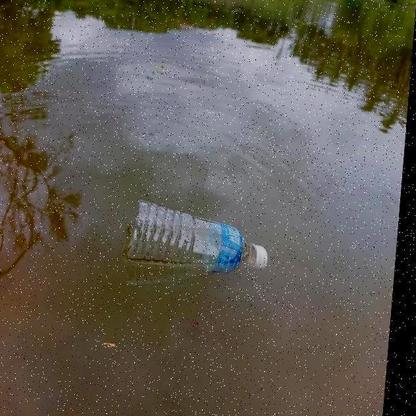plastic bottle: (125, 198, 268, 270)
